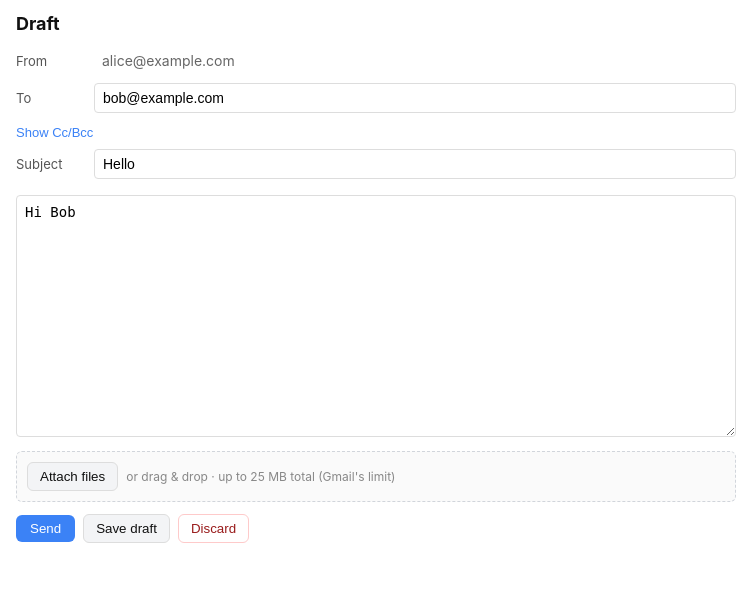
Composer › Show Cc/Bcc toggle reveals the two fields
Click the button "Show Cc/Bcc" at (55, 132), box top-left (16, 125), bottom-right (93, 140)
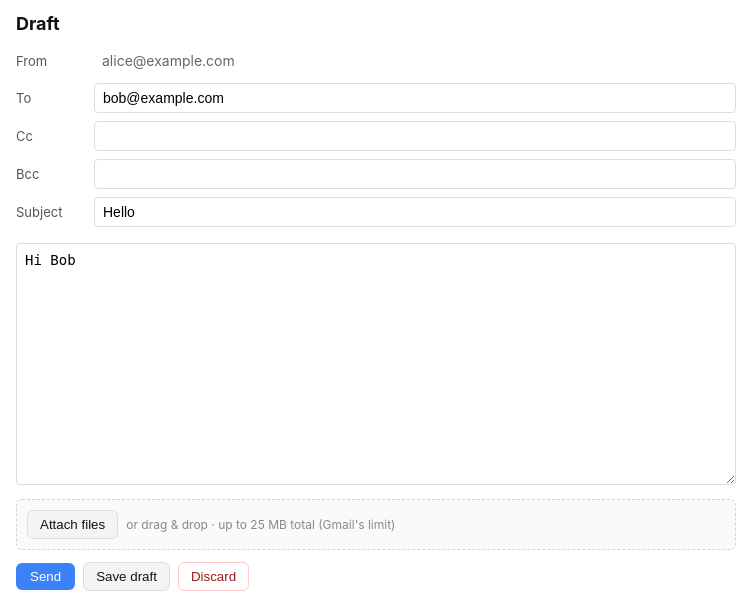
Expected: the field named "Cc" is shown, top-left (94, 121), bottom-right (736, 151)
Expected: the field named "Bcc" is shown, top-left (94, 159), bottom-right (736, 189)
